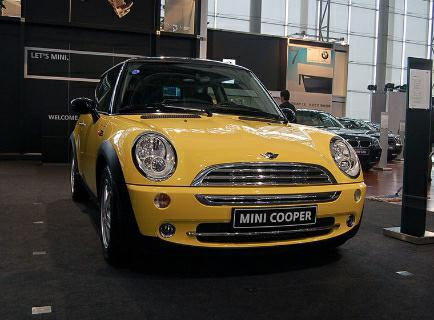MINI: (58, 65, 377, 265)
